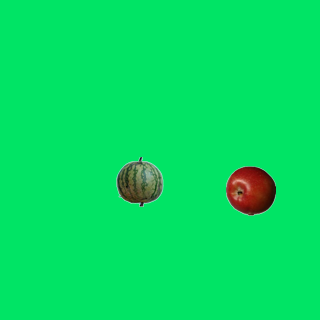Apple Braeburn: (225, 165, 275, 215)
Watermelon: (114, 156, 164, 206)
